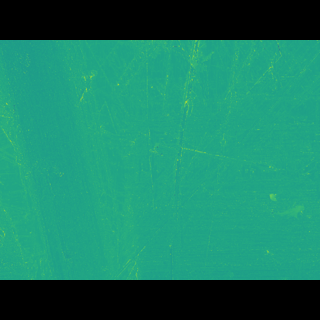Loch: (0, 70, 320, 178), (0, 70, 145, 251)
